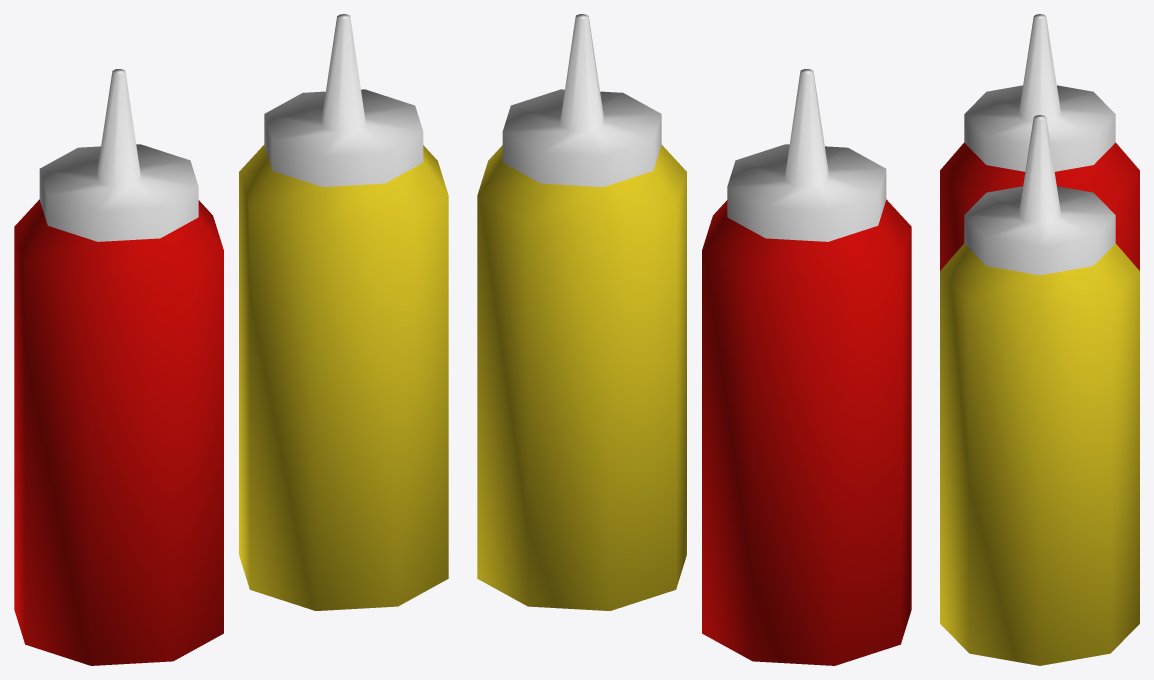
File: Sauce.fbx
The picture shows the model from 3 angles, left to right: view 1: azimuth 30°, elevation 25°; view 2: azimuth 150°, elevation 25°; view 3: azimuth 270°, elevation 25°; orthographic projection. The views are drawn at different scales.
Visible parts, largest first — view 1: Cylinder.002, Cylinder.001; view 2: Cylinder.002, Cylinder.001; view 3: Cylinder.001, Cylinder.002.
Part boxes in pixels (bbox=[...]): Cylinder.002: bbox=[14, 69, 223, 665]; Cylinder.001: bbox=[239, 14, 448, 610]; Cylinder.002: bbox=[702, 69, 911, 665]; Cylinder.001: bbox=[477, 14, 686, 610]; Cylinder.001: bbox=[940, 115, 1139, 665]; Cylinder.002: bbox=[940, 14, 1139, 270].
Bounding box in the file's own units: 6873 × 8754 × 3131.
